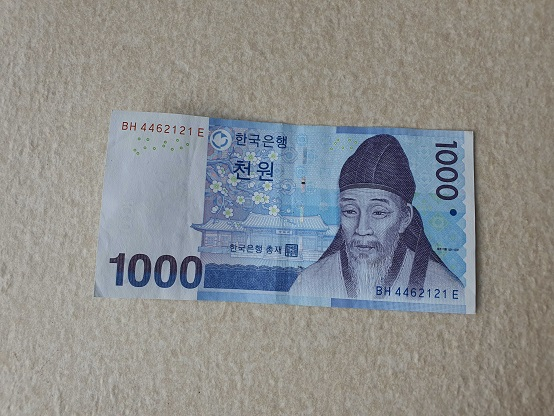1000won: (92, 106, 477, 314)
